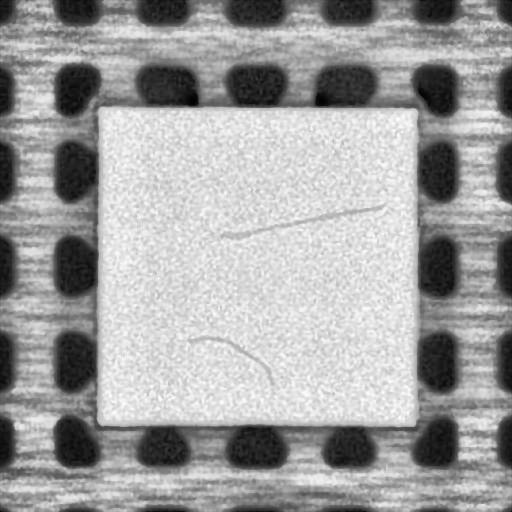DIE_CRACK: (224, 198, 388, 238), (190, 334, 275, 386)
